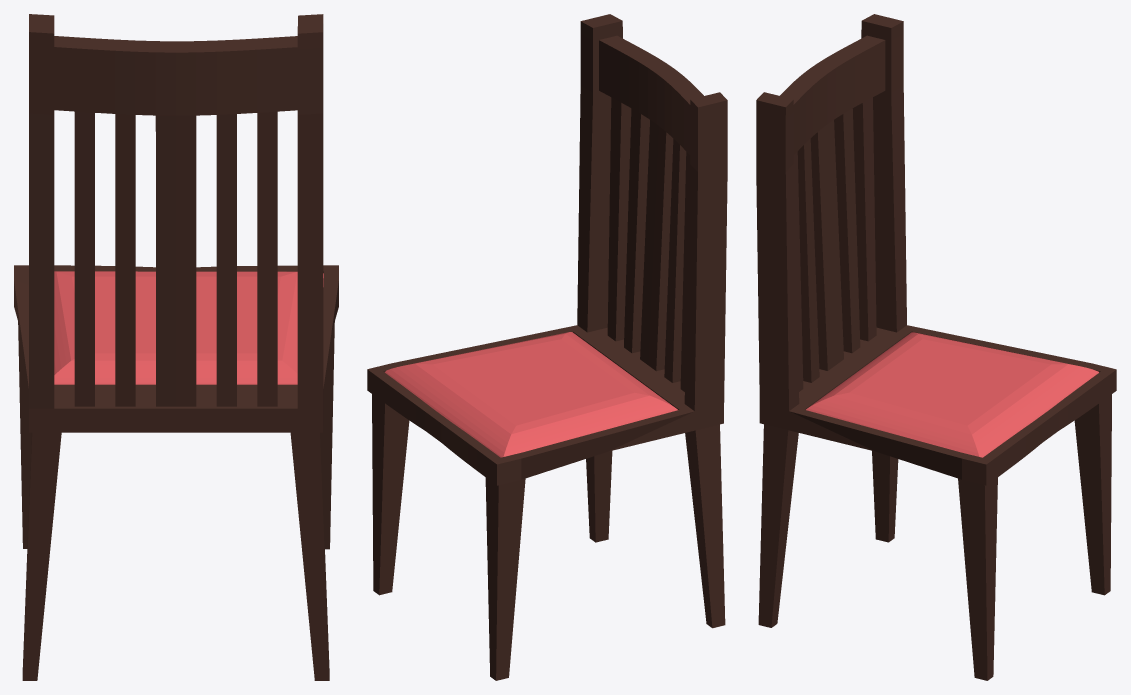
The model's file is chair.glb.
3 renders of one model, left to right at view 1: azimuth 30°, elevation 25°; view 2: azimuth 150°, elevation 25°; view 3: azimuth 270°, elevation 25°, orthographic. The views are drawn at different scales.
Visible parts, largest first — view 1: chair, cushion; view 2: chair, cushion; view 3: chair, cushion.
Boxes of the visible parts, x1,y1,x2,y2 form: chair: (14, 14, 338, 680); cushion: (54, 271, 323, 384); chair: (367, 14, 727, 680); cushion: (385, 332, 677, 457); chair: (756, 14, 1116, 680); cushion: (806, 332, 1098, 457).
Bounding box in the file's own units: 0.6222 × 1.01 × 0.6357.
